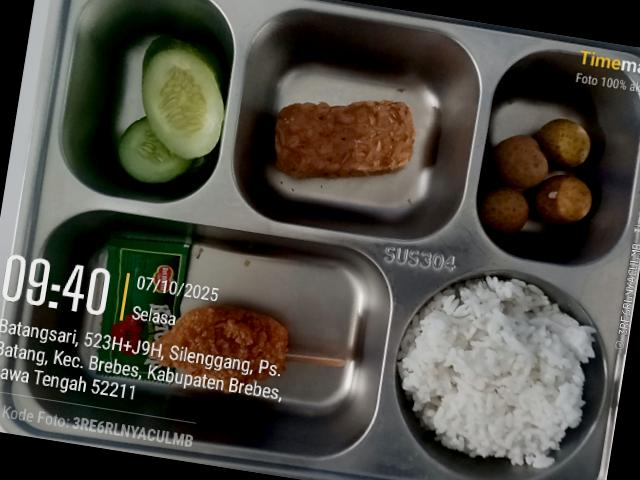ayam: (155, 306, 288, 391)
buah: (477, 118, 592, 236)
nasi: (398, 277, 595, 468)
sayur: (119, 37, 224, 184)
tempe: (275, 100, 415, 178)
